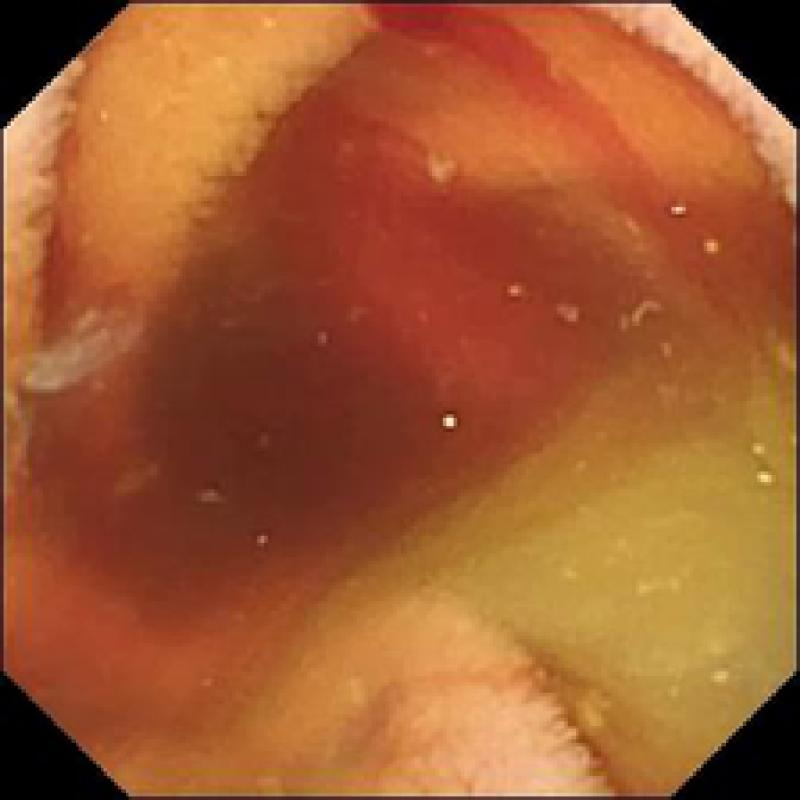bleeding: (25, 0, 800, 625)
